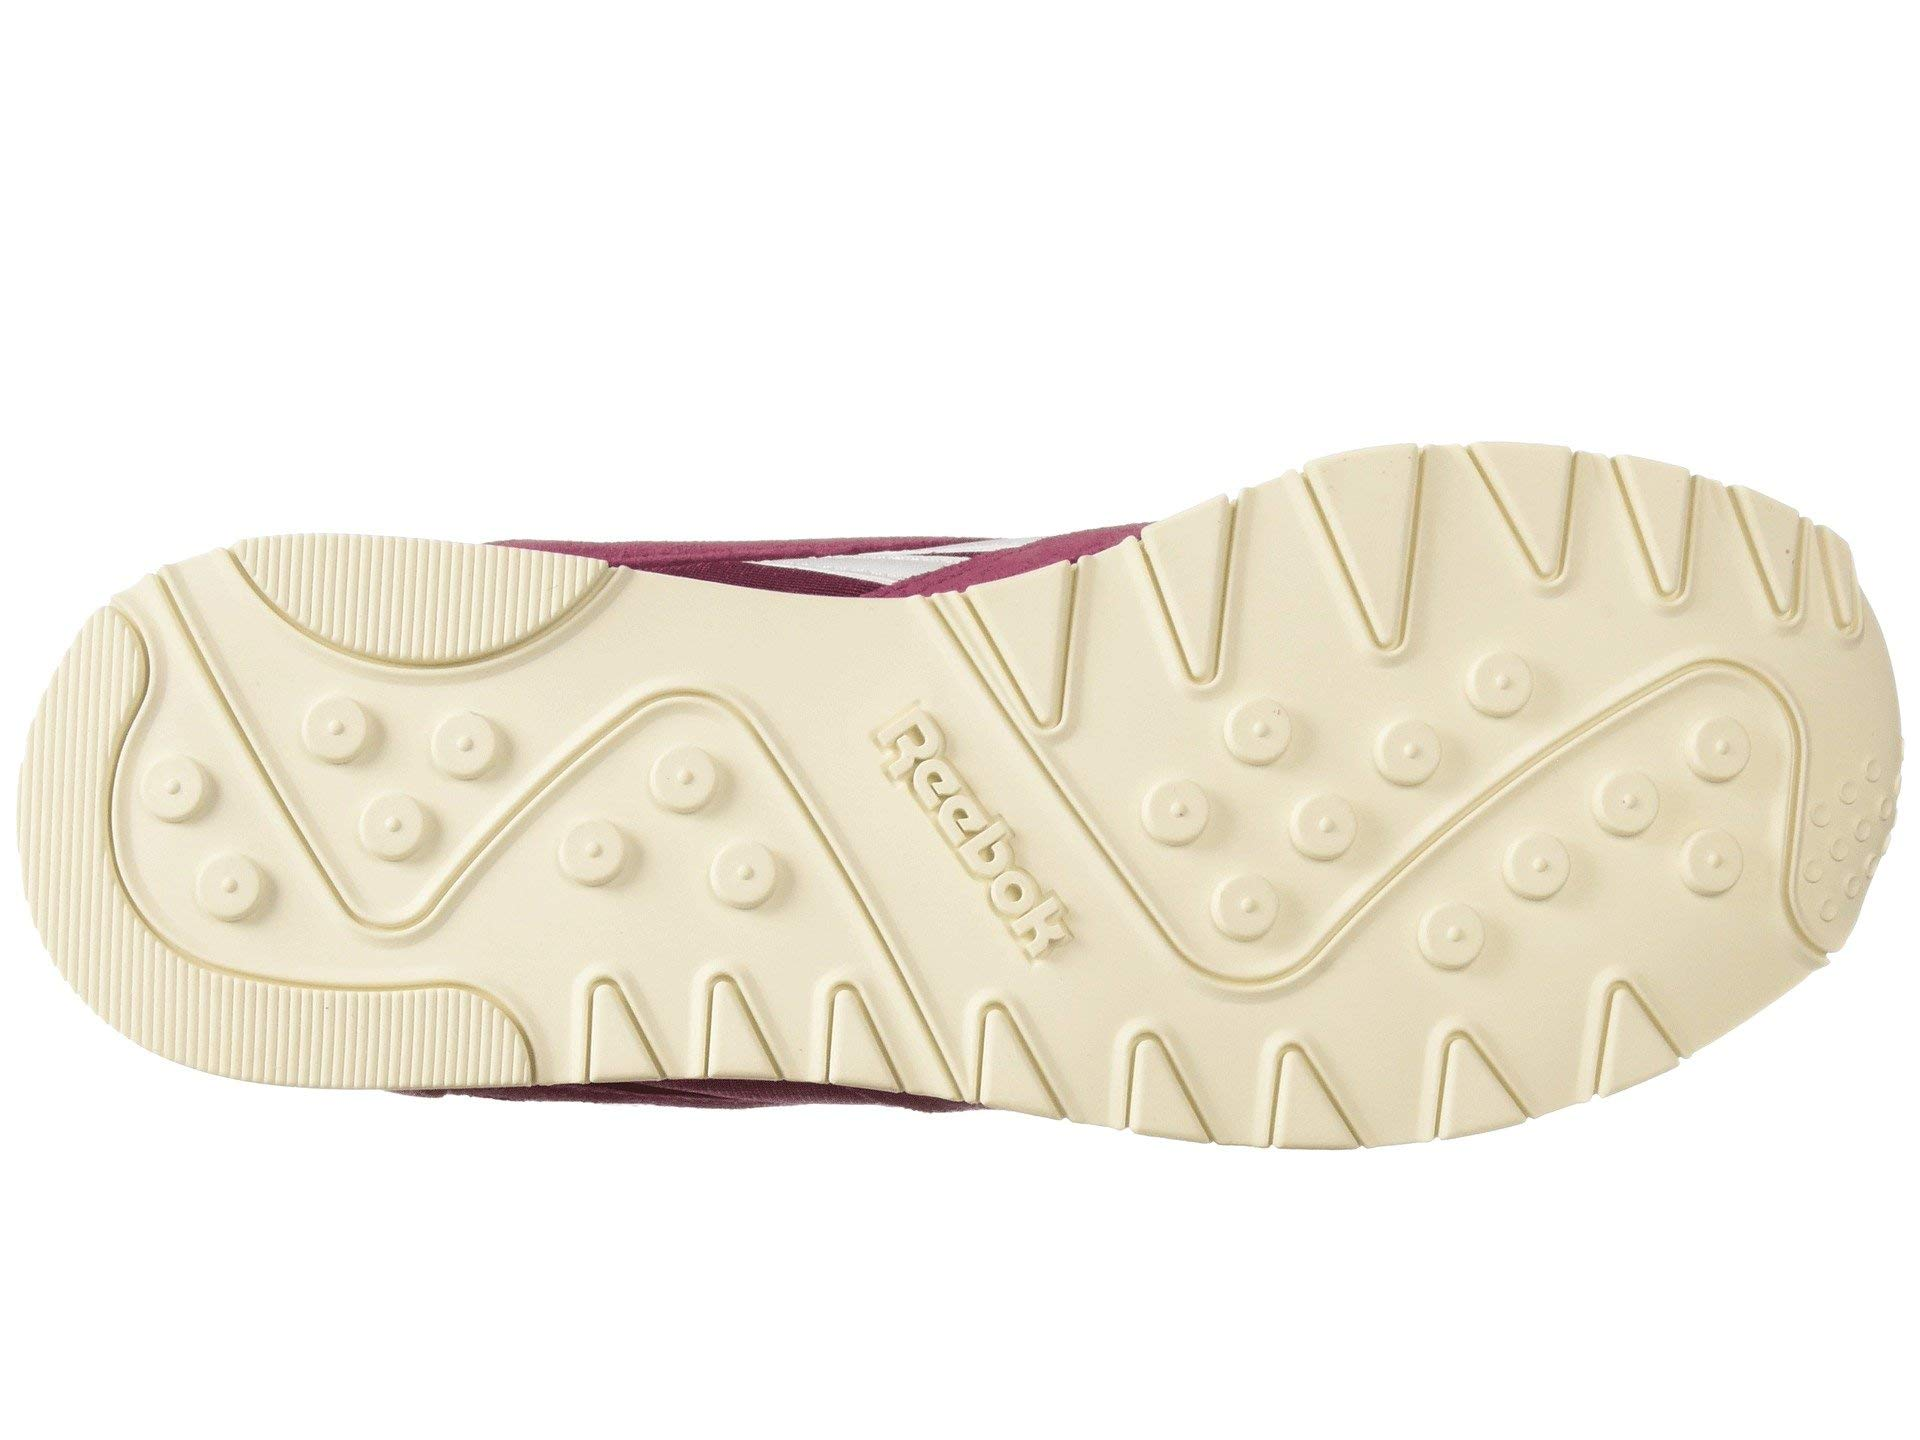circle: (1110, 490, 1488, 948), (806, 649, 1079, 988), (1568, 625, 1810, 942), (280, 681, 523, 874)
line: (1110, 490, 1488, 948), (806, 649, 1079, 988), (1568, 625, 1810, 942), (101, 950, 476, 1103), (280, 681, 523, 874)
text: (806, 649, 1079, 988)
triangle: (1110, 490, 1488, 948), (1098, 1019, 1584, 1156)
